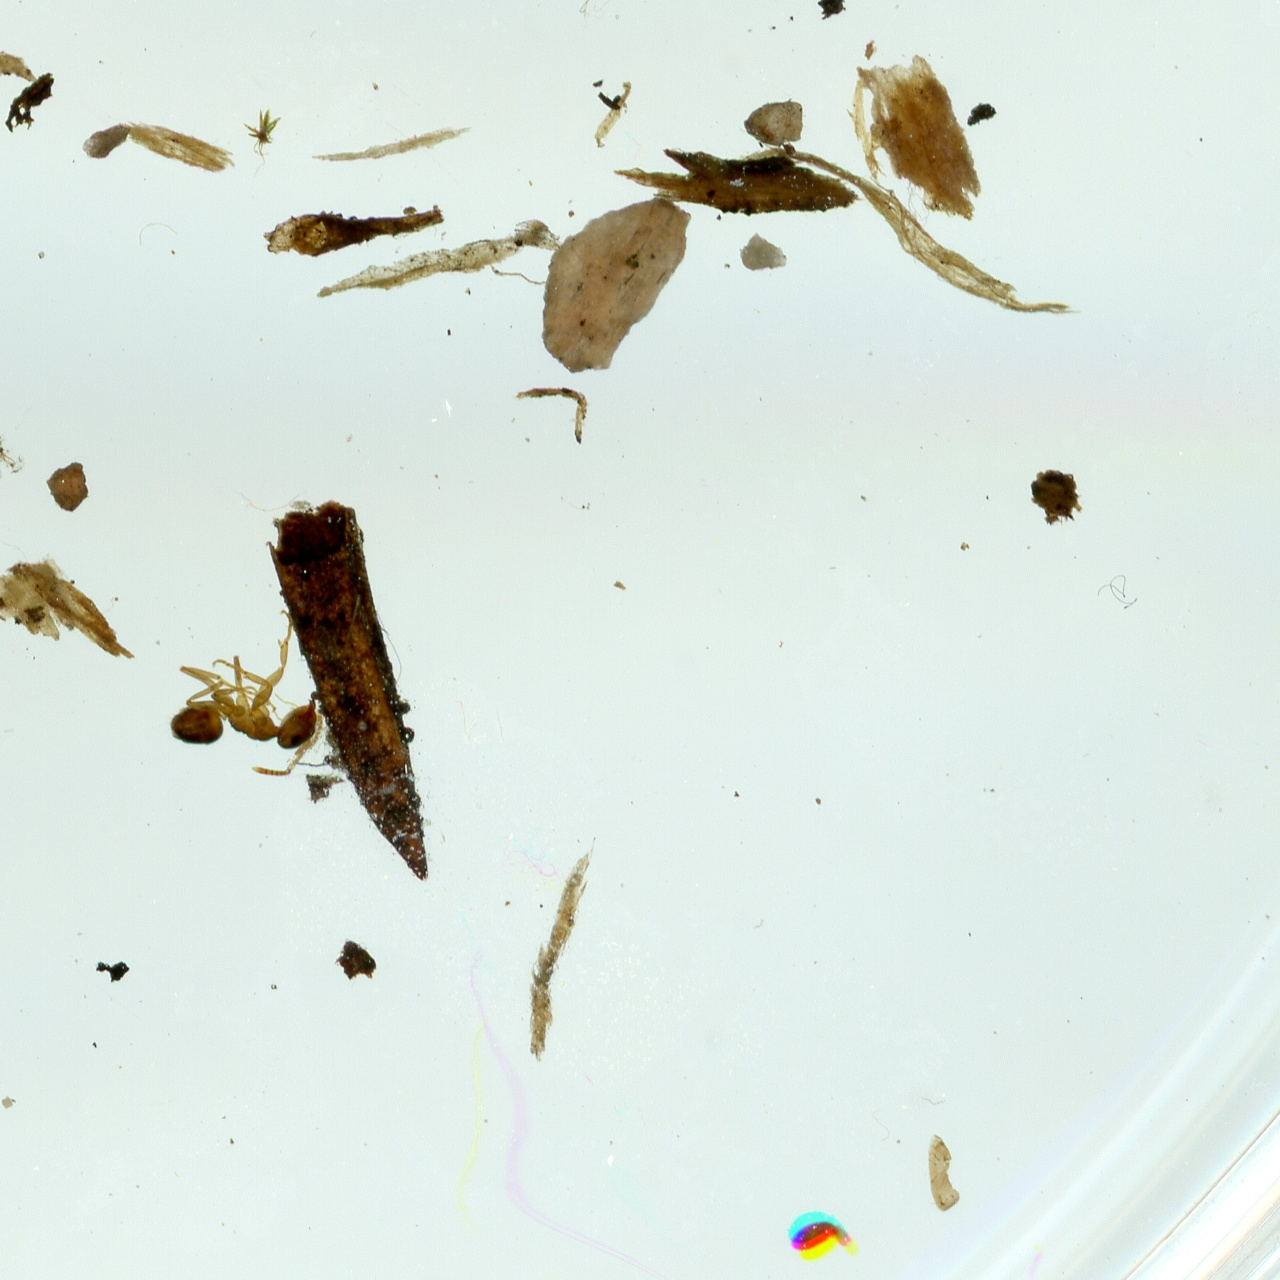arthropod: (166, 608, 326, 782)
